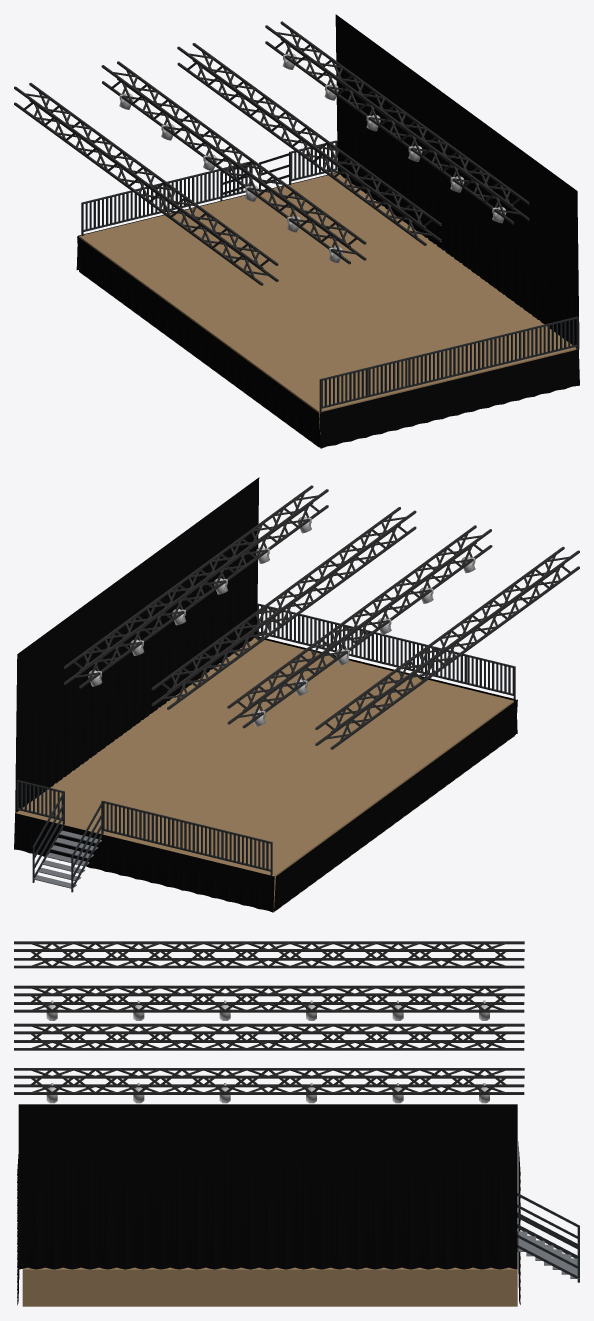
File: Stage.fbx
The picture shows the model from 3 angles, top to bottom: view 1: azimuth 30°, elevation 25°; view 2: azimuth 150°, elevation 25°; view 3: azimuth 270°, elevation 25°; orthographic projection. The views are drawn at different scales.
Parts seen in each view (by area): view 1: Stage, StageLight; view 2: Stage, StageLight; view 3: Stage, StageLight.
Part boxes in pixels (x1,y1,x2,y2): Stage: [76, 14, 579, 448]; StageLight: [14, 21, 529, 285]; Stage: [14, 477, 517, 912]; StageLight: [64, 485, 579, 749]; Stage: [17, 1104, 579, 1306]; StageLight: [14, 941, 524, 1103].
Bounding box in the file's own units: 13.05 × 7.7 × 19.36.
1 material, 1 textured.
